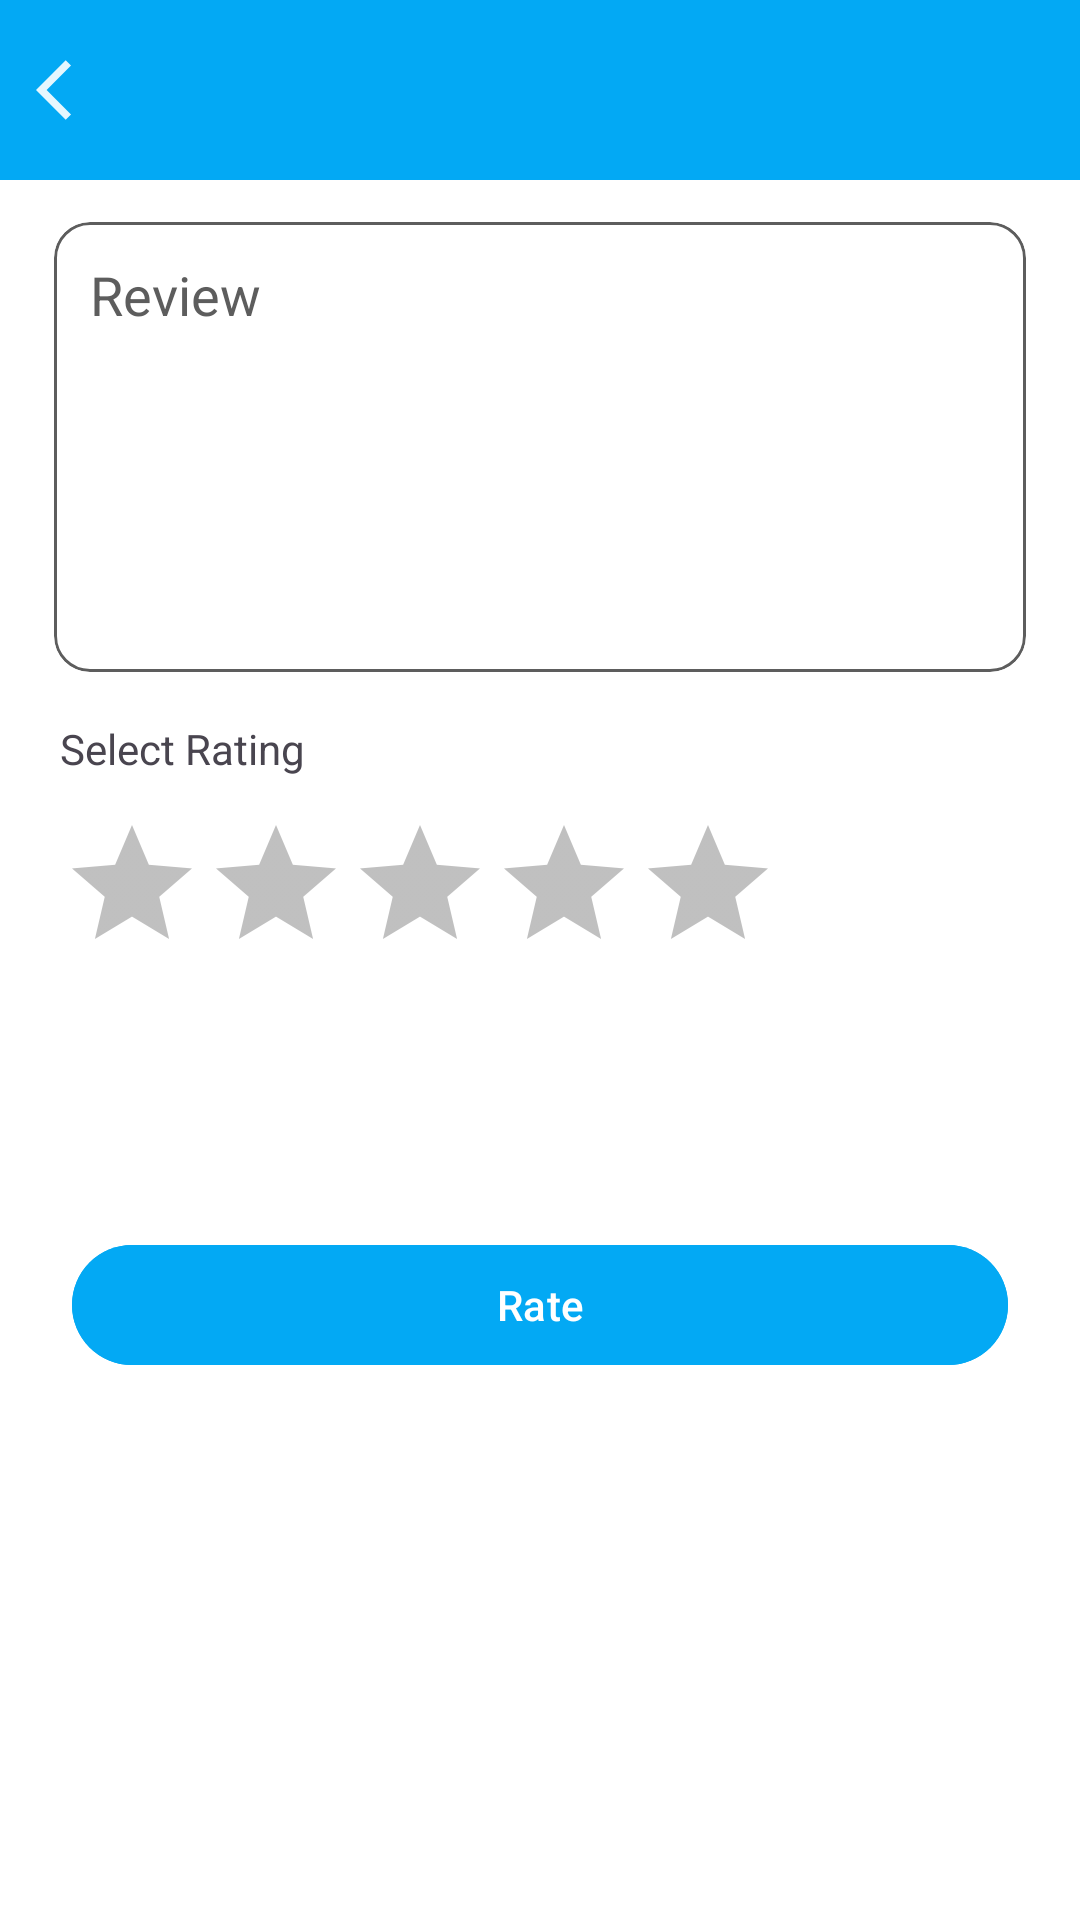

Icons on this 1080×1920 Android screen, each with the point to tap as (x=x, y=y):
arrow back: (x=53, y=90)
